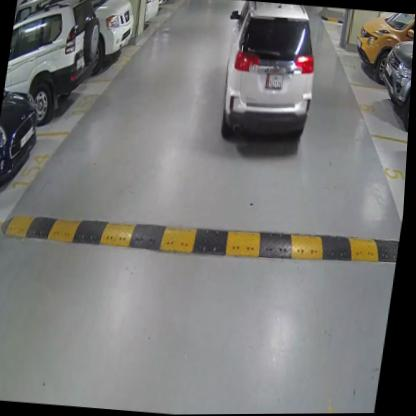np: (267, 73, 285, 93)
